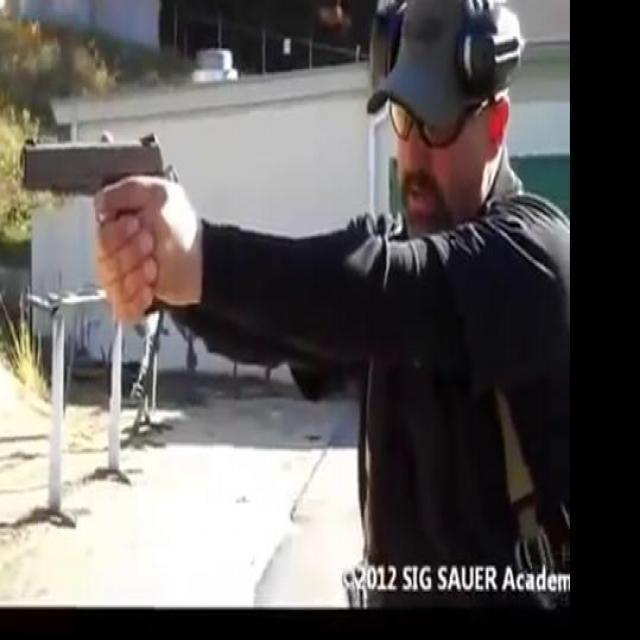gun: (18, 130, 172, 316)
